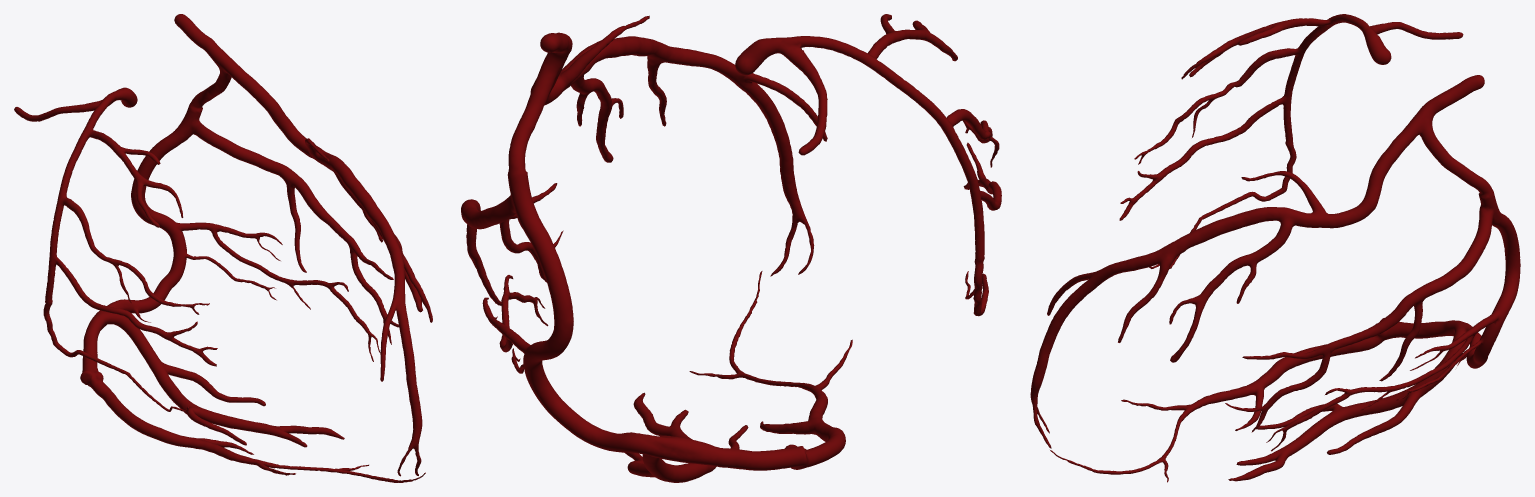
Rendered from heart_artery_left_type.glb.
The picture shows the model from 3 angles, left to right: view 1: azimuth 30°, elevation 25°; view 2: azimuth 150°, elevation 25°; view 3: azimuth 270°, elevation 25°; orthographic projection. The views are drawn at different scales.
Parts seen in each view (by area): view 1: LCx, RCA_mid, PLB, OM1, PDA, LAD_dist, LAD_prox, LAD_mid, RCA_prox, RCA_dist, LMCA, D1; view 2: LCx, RCA_mid, LAD_dist, PDA, RCA_prox, PLB, OM1, D1, LAD_mid, LAD_prox, RCA_dist, LMCA; view 3: LCx, RCA_mid, OM1, PLB, LAD_prox, PDA, LAD_dist, D1, LAD_mid, RCA_prox, RCA_dist, LMCA (+1 smaller).
Part boxes in pixels (bbox=[...]): LCx: bbox=[80, 68, 380, 396]; RCA_mid: bbox=[49, 124, 217, 366]; PLB: bbox=[81, 319, 344, 447]; OM1: bbox=[191, 120, 398, 344]; PDA: bbox=[100, 387, 425, 482]; LAD_dist: bbox=[380, 234, 422, 476]; LAD_prox: bbox=[215, 57, 332, 166]; LAD_mid: bbox=[325, 155, 400, 244]; RCA_prox: bbox=[14, 87, 137, 128]; RCA_dist: bbox=[43, 261, 188, 411]; LMCA: bbox=[174, 14, 229, 64]; D1: bbox=[332, 170, 422, 312]; LCx: bbox=[482, 52, 808, 470]; RCA_mid: bbox=[858, 14, 1001, 210]; LAD_dist: bbox=[666, 46, 827, 276]; PDA: bbox=[689, 271, 852, 469]; RCA_prox: bbox=[735, 36, 867, 155]; PLB: bbox=[624, 392, 806, 482]; OM1: bbox=[461, 183, 563, 305]; D1: bbox=[571, 75, 623, 162]; LAD_mid: bbox=[574, 36, 672, 72]; LAD_prox: bbox=[530, 15, 649, 104]; RCA_dist: bbox=[965, 200, 988, 316]; LMCA: bbox=[540, 32, 572, 58]; LCx: bbox=[1266, 121, 1520, 451]; RCA_mid: bbox=[1119, 17, 1337, 220]; OM1: bbox=[1225, 206, 1492, 432]; PLB: bbox=[1228, 342, 1462, 481]; LAD_prox: bbox=[1241, 115, 1425, 228]; PDA: bbox=[1050, 339, 1375, 482]; LAD_dist: bbox=[1030, 248, 1164, 448]; D1: bbox=[1169, 221, 1295, 362]; LAD_mid: bbox=[1158, 207, 1295, 266]; RCA_prox: bbox=[1330, 14, 1463, 64]; RCA_dist: bbox=[1149, 101, 1296, 269]; LMCA: bbox=[1416, 75, 1484, 124].
Size of the model in its own units: 0.6602 by 0.6785 by 0.7837.
